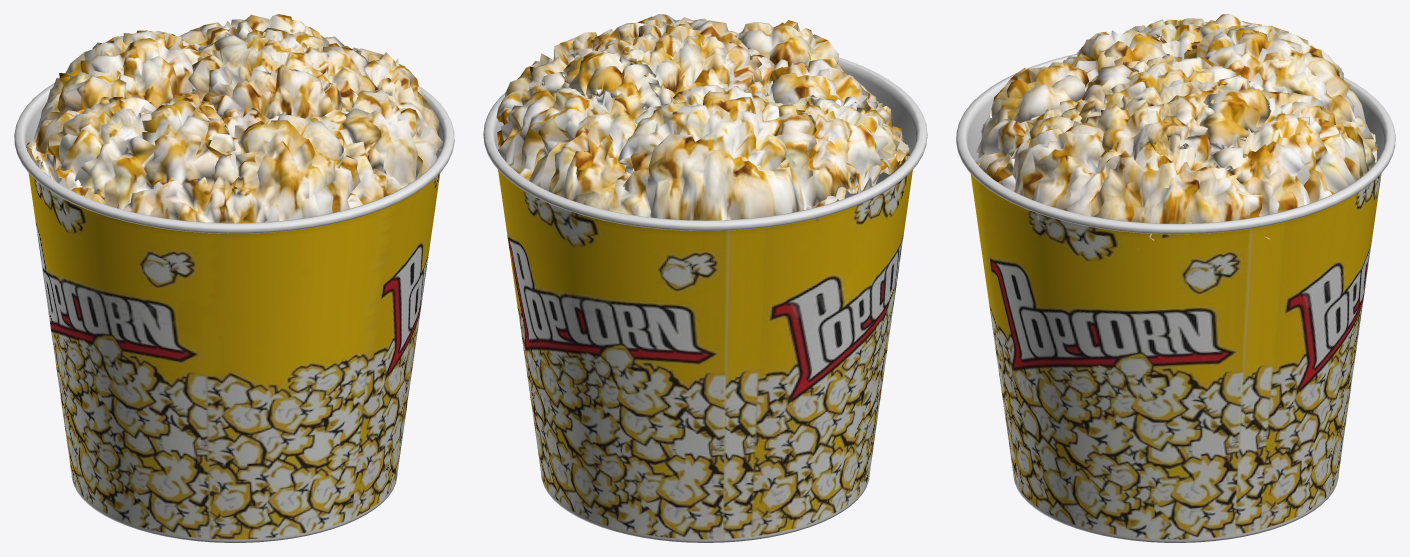
File: Palomitas de maiz.fbx
3 views of the same model, side by side, from view 1: azimuth 30°, elevation 25°; view 2: azimuth 150°, elevation 25°; view 3: azimuth 270°, elevation 25° (orthographic).
Visible parts, largest first — view 1: Object_8, Object_11, Object_9; view 2: Object_8, Object_11, Object_9; view 3: Object_8, Object_11, Object_9.
Boxes of the visible parts, bbox=[...] form: Object_8: bbox=[28, 173, 440, 539]; Object_11: bbox=[25, 14, 442, 223]; Object_9: bbox=[14, 83, 454, 542]; Object_8: bbox=[498, 170, 912, 539]; Object_11: bbox=[496, 14, 909, 222]; Object_9: bbox=[483, 57, 927, 542]; Object_8: bbox=[970, 174, 1381, 539]; Object_11: bbox=[975, 14, 1377, 249]; Object_9: bbox=[956, 54, 1395, 542].
Size of the model in its own units: 153 by 164 by 153.
Materials: 3 (2 with a texture image).
